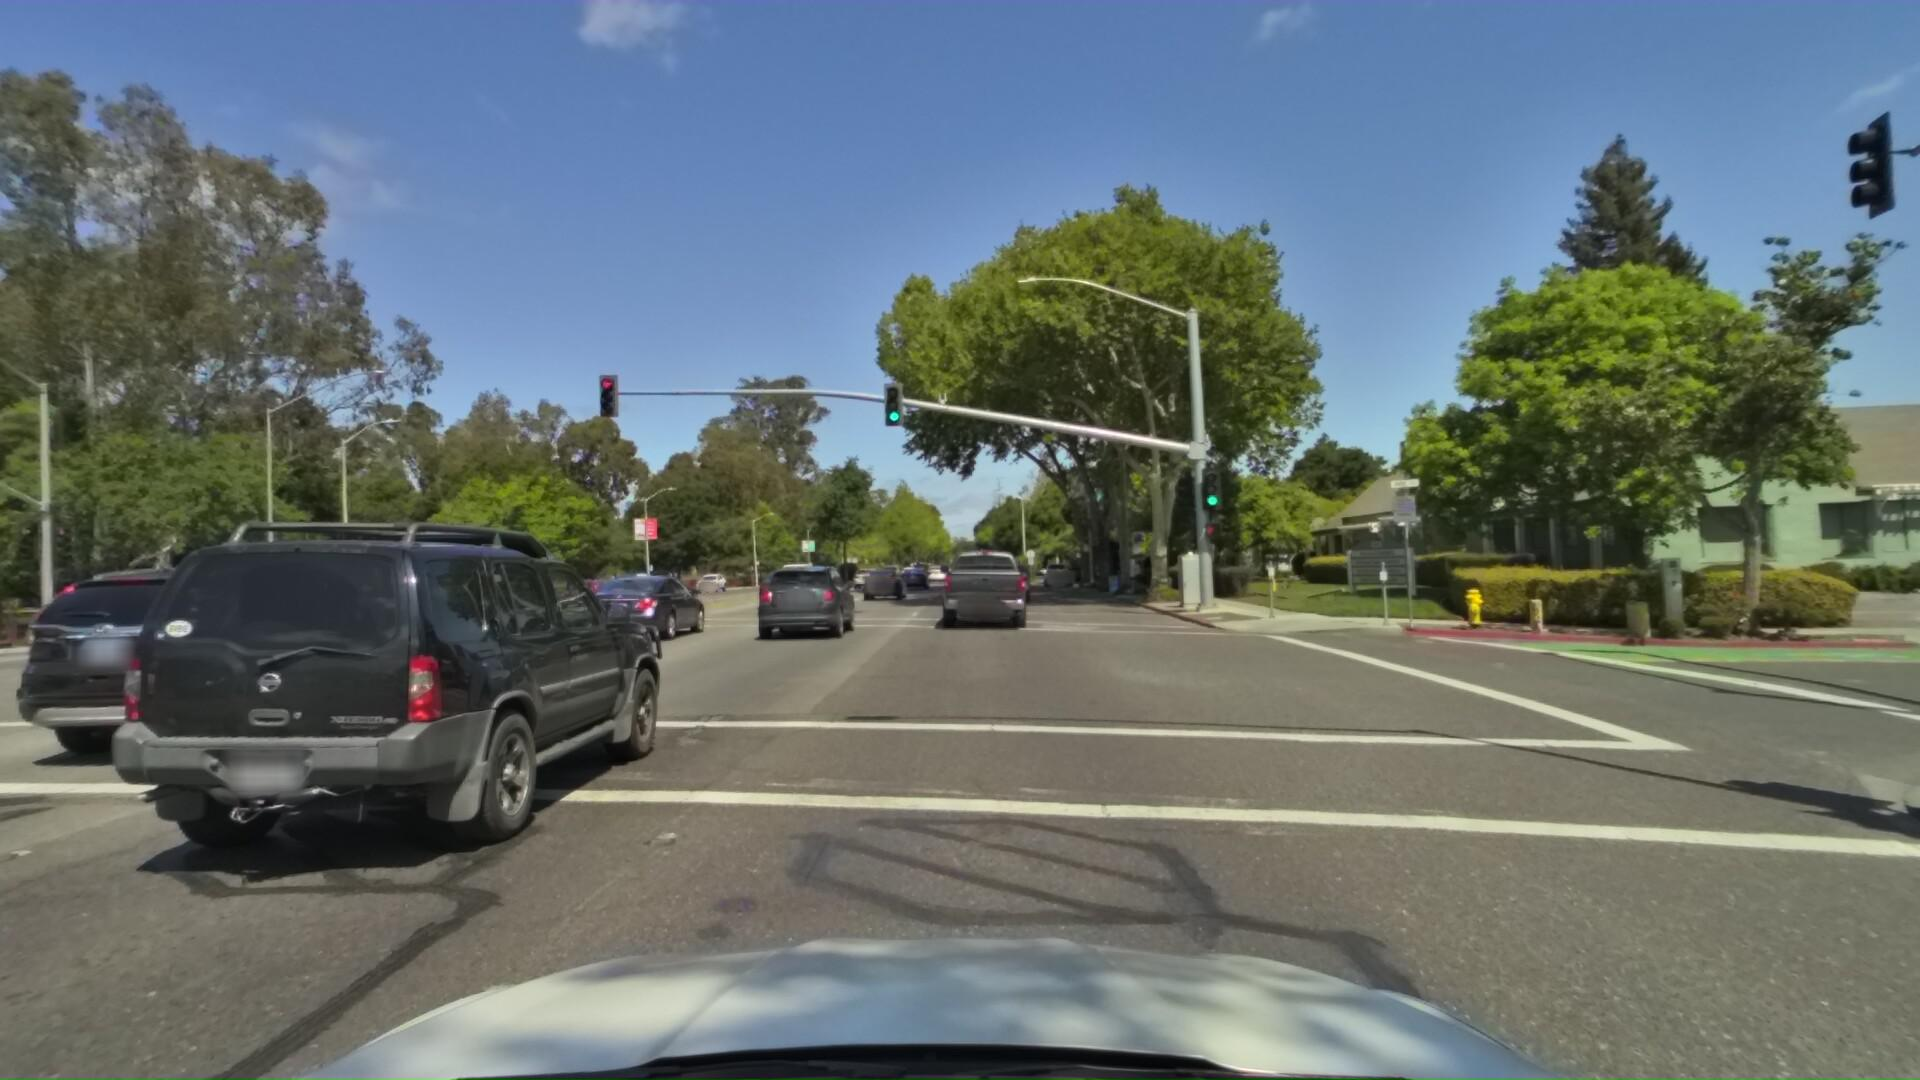car: (55, 462, 694, 899), (0, 545, 459, 782), (582, 566, 716, 653), (932, 537, 1029, 644), (754, 555, 860, 644), (750, 567, 815, 612), (980, 558, 1031, 607), (858, 564, 907, 603), (899, 564, 932, 591), (1043, 549, 1071, 578), (849, 560, 880, 583)
